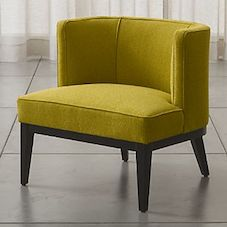chair: (6, 20, 217, 211)
